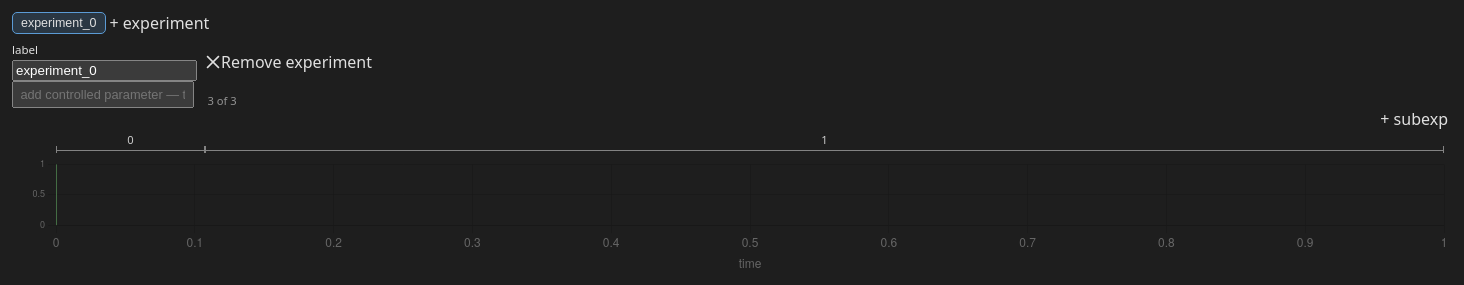
Scenario: ProtocolInfoEditor › says how many of the parameters match
The width and height of the screenshot is (1464, 285).
Expected: the text with test id "param-count" reads "3 of 3", [207,93,237,108]
In the field with test id "param-search": coordinates (103, 94) [12,81,194,108], type "a/"
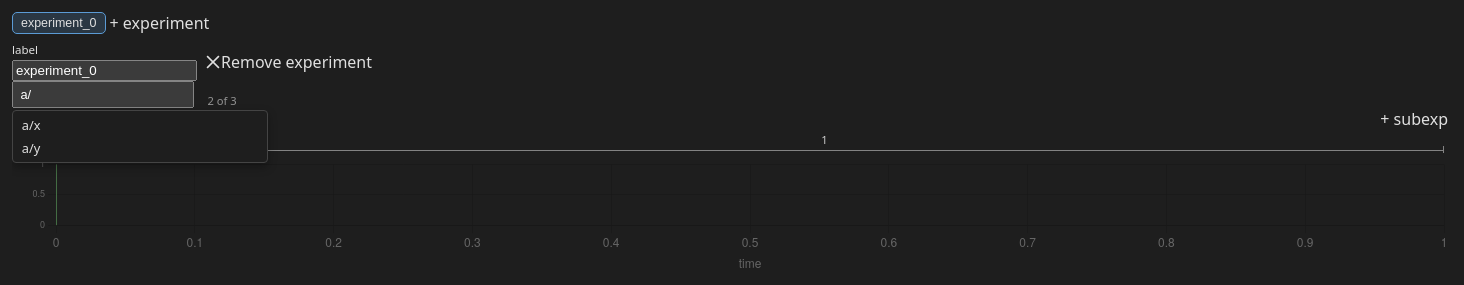
Result: the text with test id "param-count" reads "2 of 3" at [207,93,237,108]
